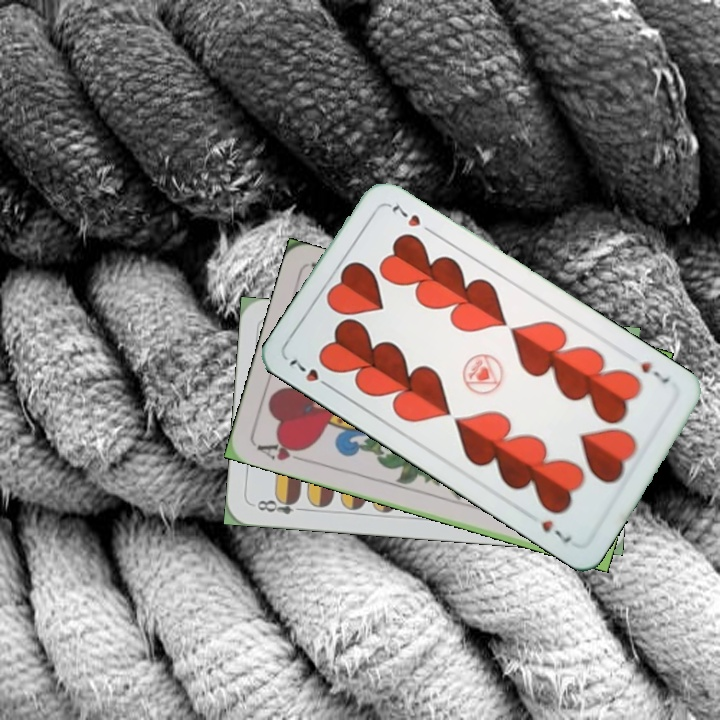E8: (253, 493, 309, 517)
H7: (284, 355, 336, 393), (636, 357, 673, 386)
HA: (252, 436, 311, 466)
